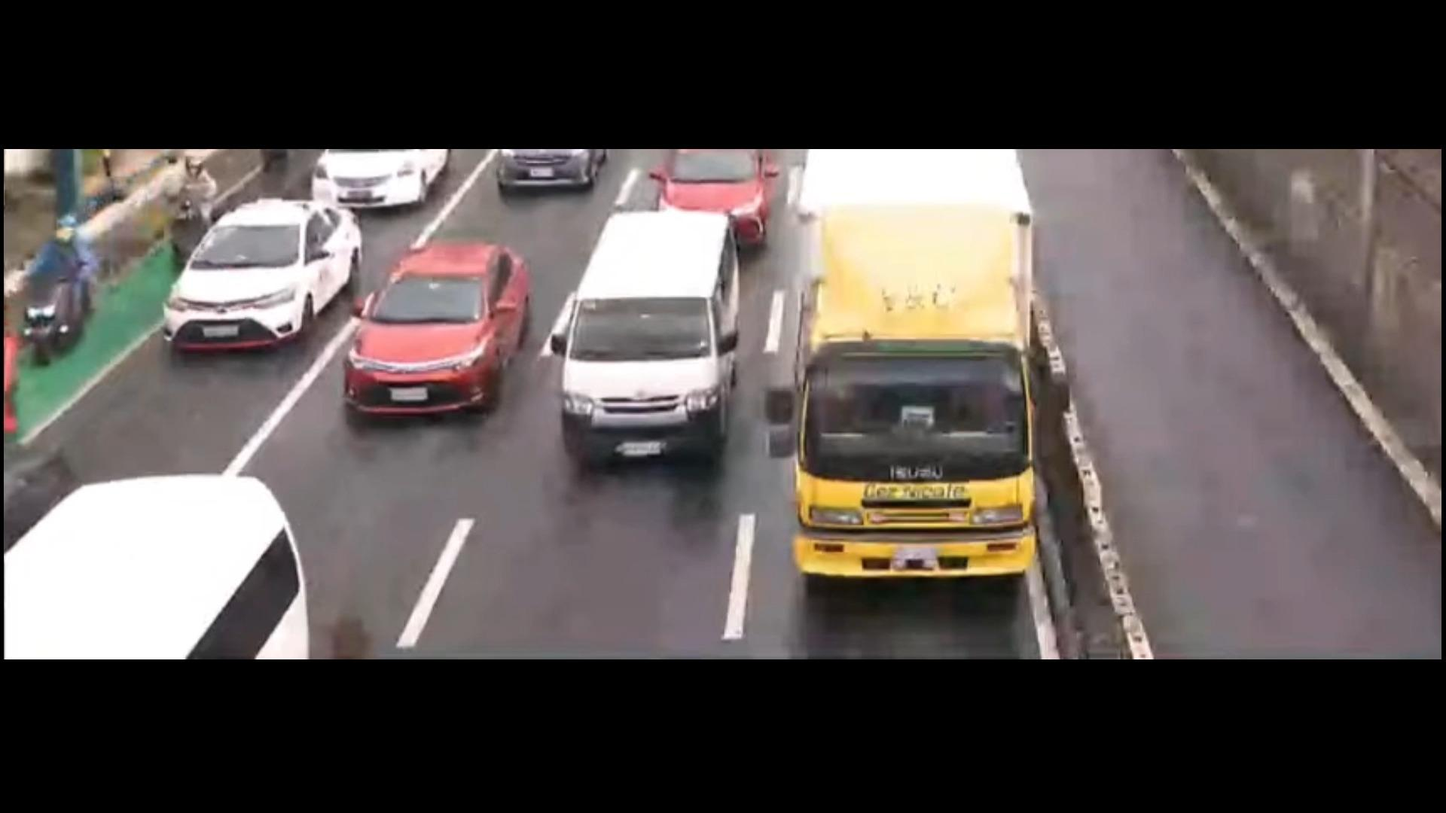Motorcycle: (0, 207, 140, 390), (159, 155, 247, 258)
Sedan: (338, 238, 546, 435), (156, 194, 366, 360), (637, 151, 773, 253), (316, 147, 454, 212)
Truck: (777, 149, 1045, 601)
Van: (0, 463, 336, 658), (540, 200, 759, 488)
